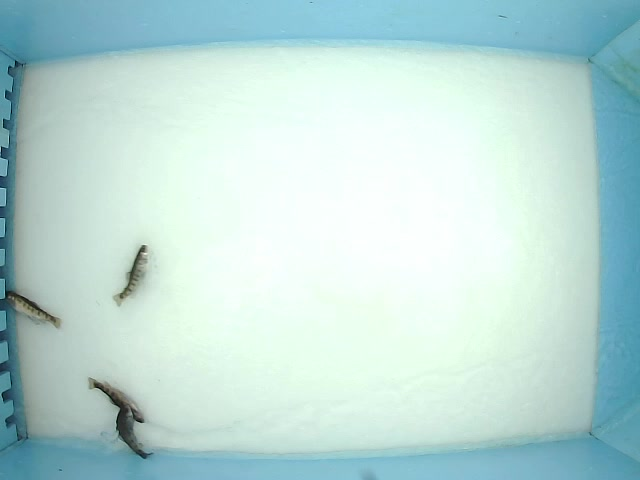fish: (6, 281, 65, 334), (86, 375, 147, 425), (110, 239, 150, 308), (115, 404, 156, 461)
